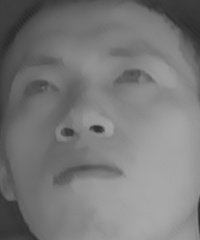eye: (18, 74, 62, 105), (112, 63, 157, 92)
mouth: (50, 153, 127, 191)
